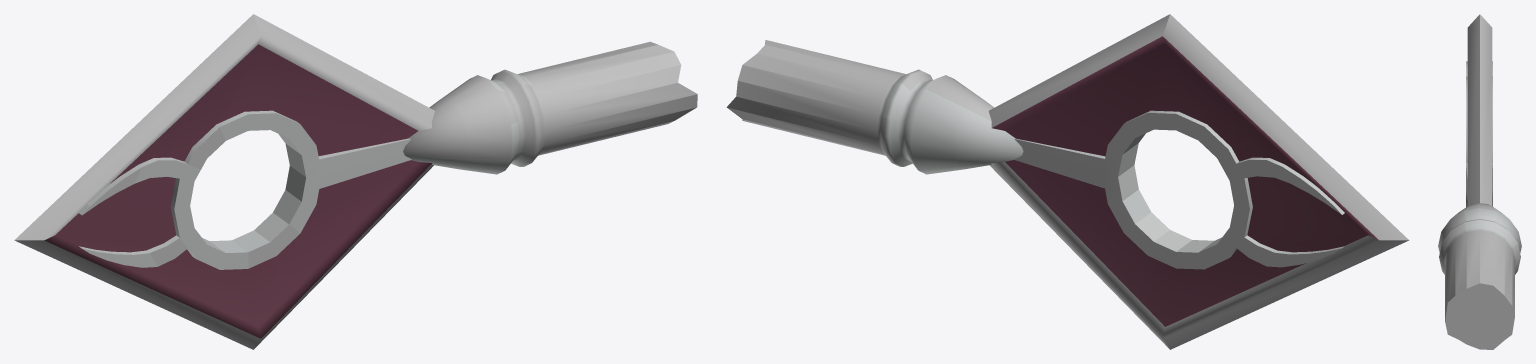
Rendered from key_broken2_mesh.fbx.
The picture shows the model from 3 angles, left to right: view 1: azimuth 30°, elevation 25°; view 2: azimuth 150°, elevation 25°; view 3: azimuth 270°, elevation 25°; orthographic projection. The views are drawn at different scales.
Parts seen in each view (by area): view 1: fourkets3; view 2: fourkets3; view 3: fourkets3.
Part boxes in pixels (<box>): fourkets3: <box>14,14,697,349</box>; fourkets3: <box>726,14,1409,349</box>; fourkets3: <box>1438,14,1521,349</box>.
Size of the model in its own units: 0.6697 by 0.3241 by 0.0891.
